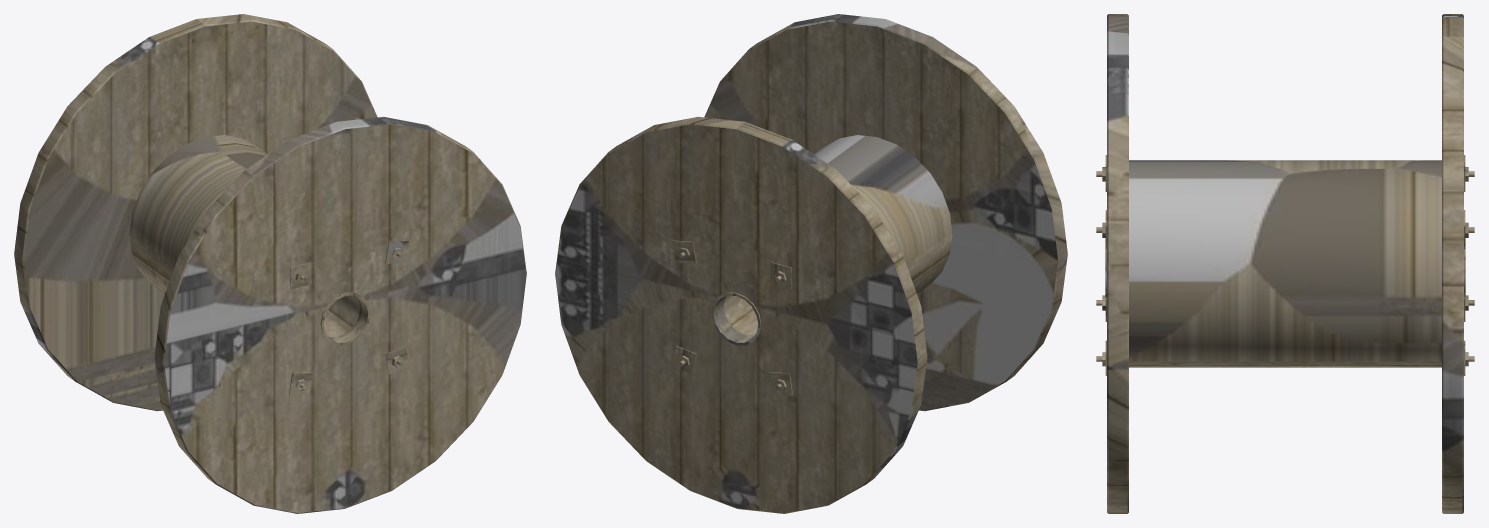
The model's file is cable_drum.glb.
3 renders of one model, left to right at view 1: azimuth 30°, elevation 25°; view 2: azimuth 150°, elevation 25°; view 3: azimuth 270°, elevation 25°, orthographic. The views are drawn at different scales.
Visible parts, largest first — view 1: body; view 2: body; view 3: body.
Boxes of the visible parts, box(x1,y1,x2,y2) form: body: box(14, 14, 526, 513); body: box(555, 14, 1067, 513); body: box(1096, 14, 1474, 513).
Size of the model in its own units: 1 by 1 by 0.7536.
Materials: 1 (1 with a texture image).
